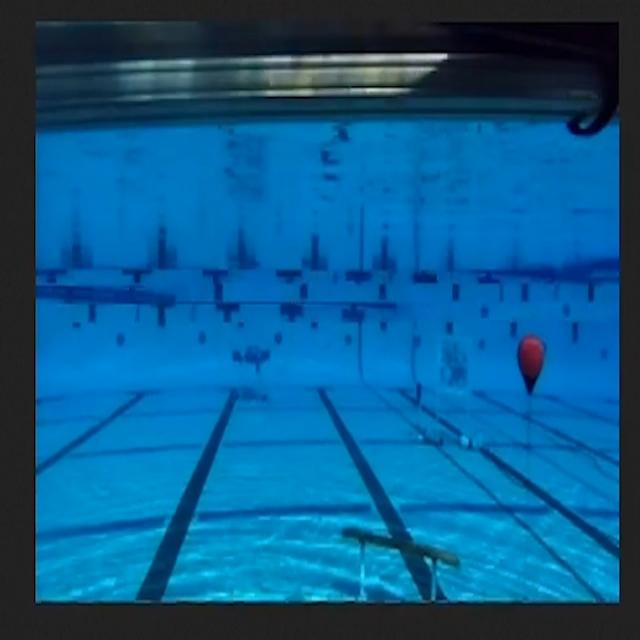Buoy: (509, 334, 552, 401)
